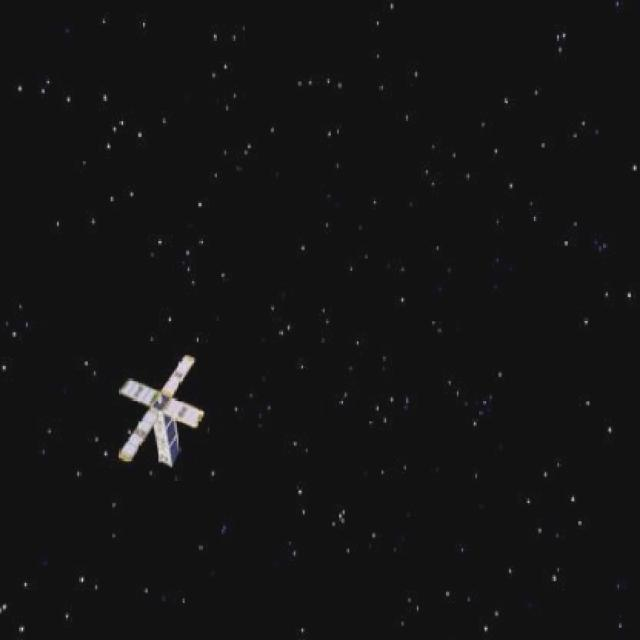satellite: (113, 350, 207, 475)
